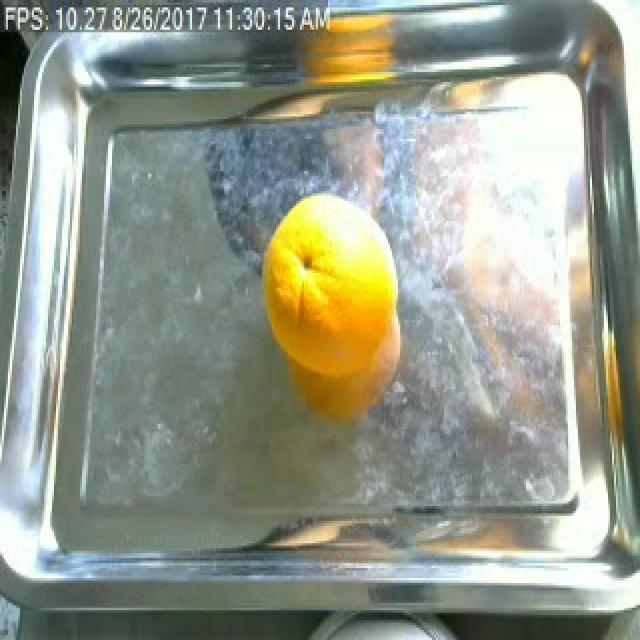Fruit: (256, 184, 408, 439), (288, 12, 410, 102), (572, 3, 634, 104)
